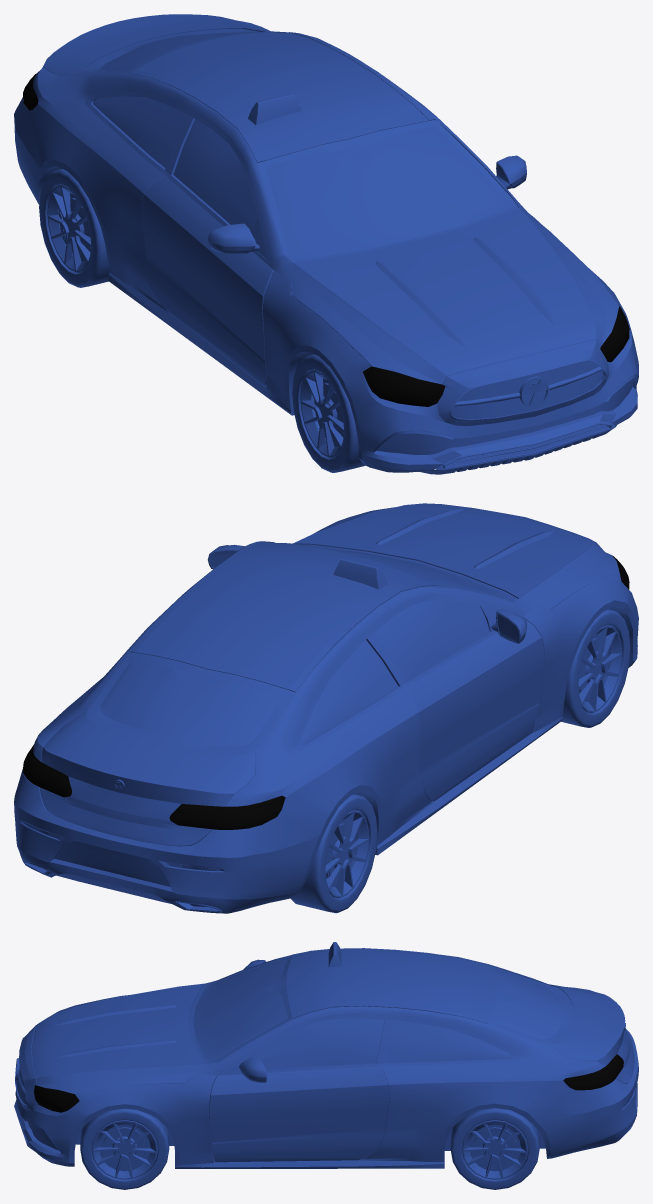
File: taxi1.fbx
3 renders of one model, top to bottom at view 1: azimuth 30°, elevation 25°; view 2: azimuth 150°, elevation 25°; view 3: azimuth 270°, elevation 25°, orthographic. The views are drawn at different scales.
Visible parts, largest first — view 1: polySurface2, arkateker2, onteker2; view 2: polySurface2, arkateker2, onteker2; view 3: polySurface2, arkateker1, onteker1.
Boxes of the visible parts, bbox=[...] form: polySurface2: bbox=[14, 14, 638, 474]; arkateker2: bbox=[39, 169, 109, 287]; onteker2: bbox=[292, 354, 365, 472]; polySurface2: bbox=[14, 503, 638, 913]; arkateker2: bbox=[290, 794, 377, 913]; onteker2: bbox=[561, 609, 630, 727]; polySurface2: bbox=[14, 942, 638, 1168]; arkateker1: bbox=[450, 1108, 539, 1189]; onteker1: bbox=[80, 1108, 169, 1189].
Bounding box in the file's own units: 165 × 122 × 389.
